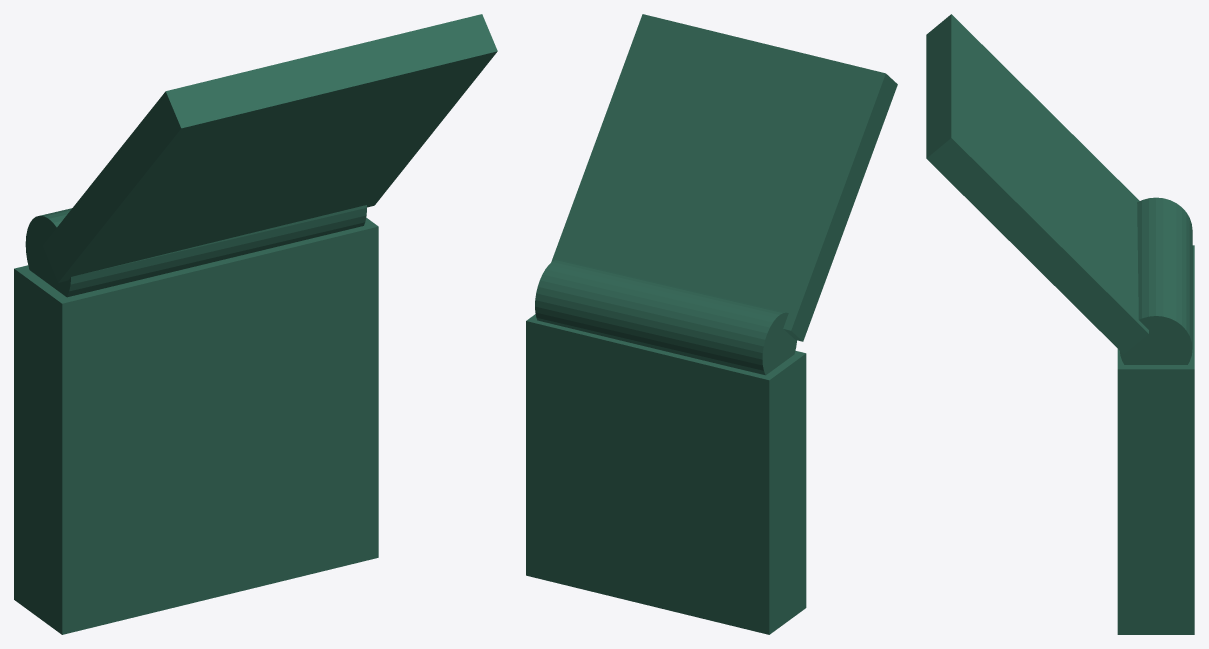
The model's file is light_test.fbx.
The picture shows the model from 3 angles, left to right: view 1: azimuth 30°, elevation 25°; view 2: azimuth 150°, elevation 25°; view 3: azimuth 270°, elevation 25°; orthographic projection. The views are drawn at different scales.
Visible parts, largest first — view 1: Cube.001; view 2: Cube.001; view 3: Cube.001.
Boxes of the visible parts, bbox=[...] form: Cube.001: bbox=[14, 14, 497, 634]; Cube.001: bbox=[526, 14, 897, 634]; Cube.001: bbox=[926, 14, 1194, 634].
Bounding box in the file's own units: 200 × 374 × 183.
